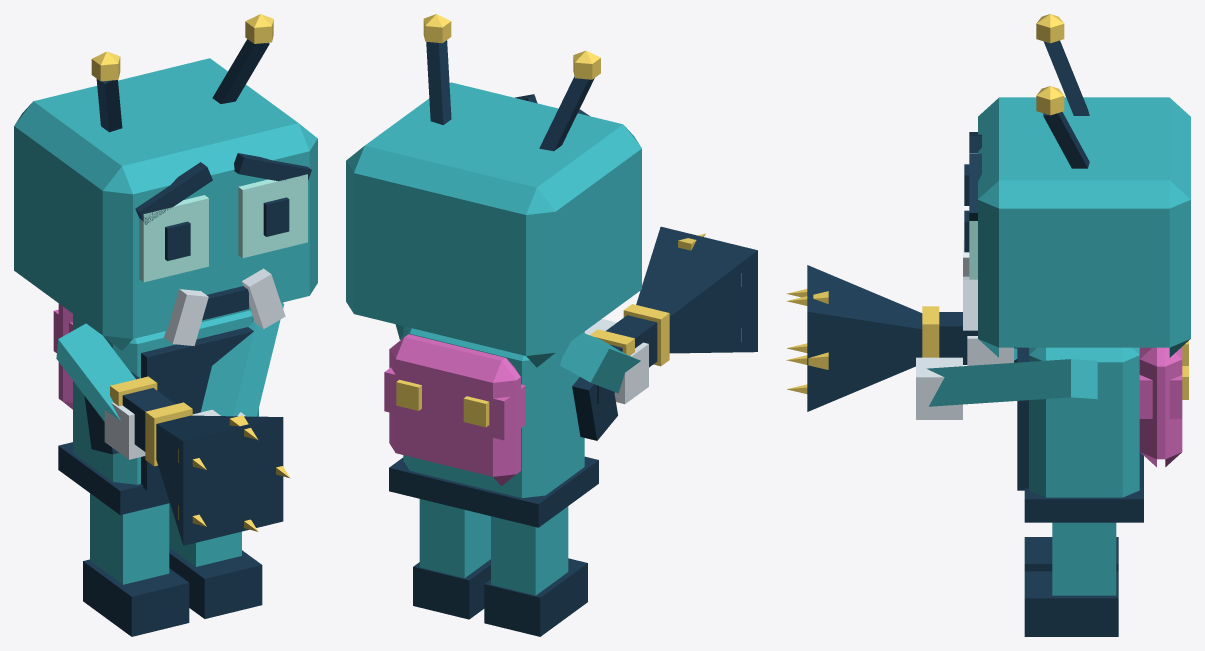
File: shotgunner_r12.glb
The picture shows the model from 3 angles, left to right: view 1: azimuth 30°, elevation 25°; view 2: azimuth 150°, elevation 25°; view 3: azimuth 270°, elevation 25°; orthographic projection. The views are drawn at different scales.
Parts seen in each view (by area): view 1: shotgunner_r12_mesh; view 2: shotgunner_r12_mesh; view 3: shotgunner_r12_mesh.
Part boxes in pixels (x1=…): shotgunner_r12_mesh: x1=14, y1=14, x2=317, y2=636; shotgunner_r12_mesh: x1=346, y1=14, x2=757, y2=636; shotgunner_r12_mesh: x1=786, y1=14, x2=1190, y2=636.
Size of the model in its own units: 0.6458 by 1.5 by 0.9896.
Materials: 1 (1 with a texture image).
